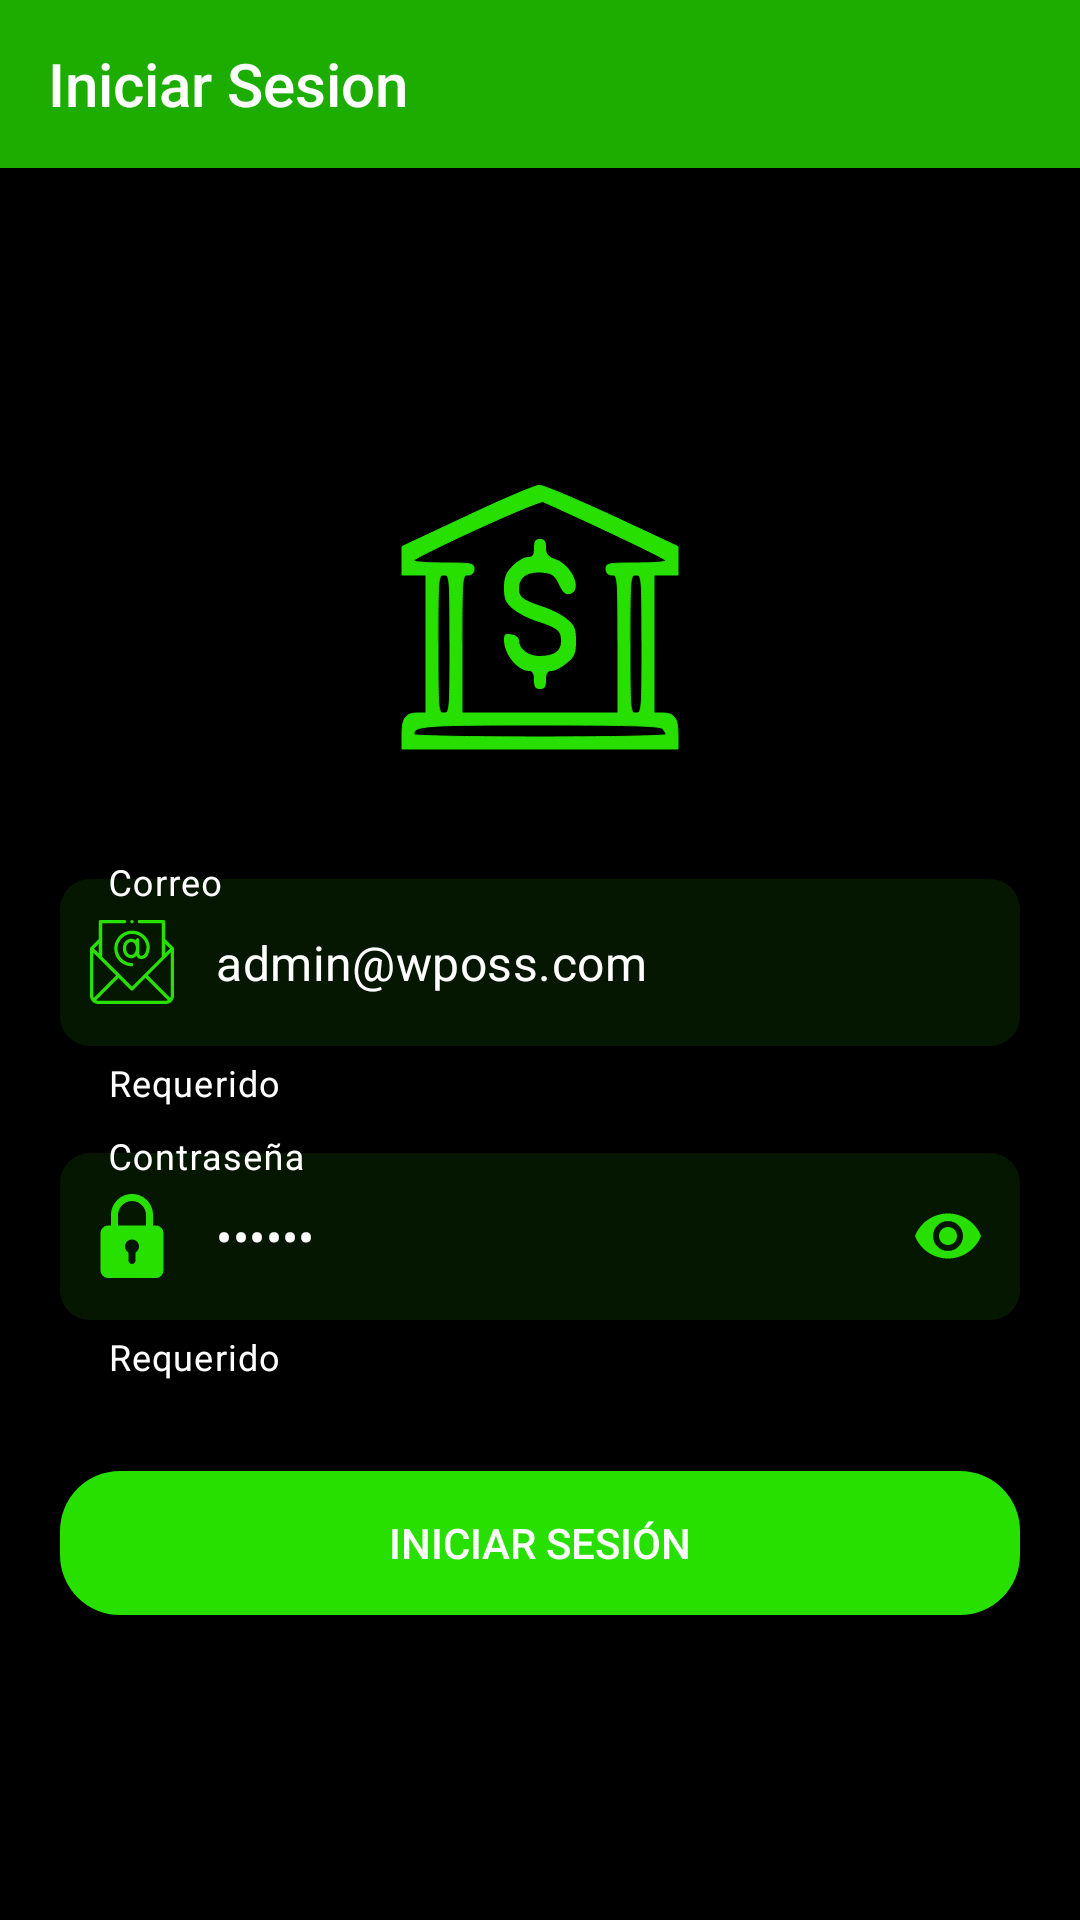

Named icons in this screenshot (1080px×1920px) and their bounding boxes, bbox(x1, y1, x2, y2):
edificio del banco: bbox(401, 484, 679, 750)
